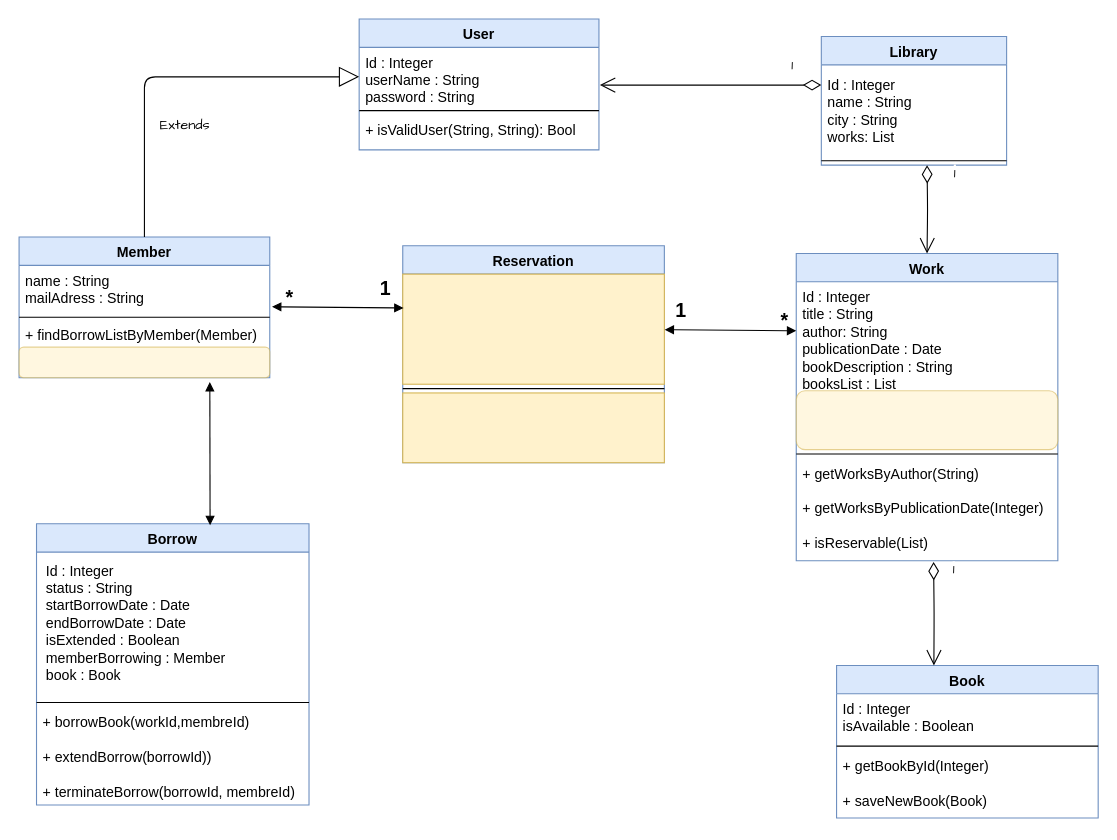
Some shapes in this 1117 by 840 pixel diagram are drawn without their labels. Each missing label, with the centre of its shape:
+ findReservationList (Member): the point at 144,362
+ reserveWork(memberId, workId) + cancelReservation(reservationId): the point at 533,427
Id : Integer status : String reserveDate : Date: the point at 533,328
memberReservingList : List maxResAllowed : Integer: the point at 926,420
